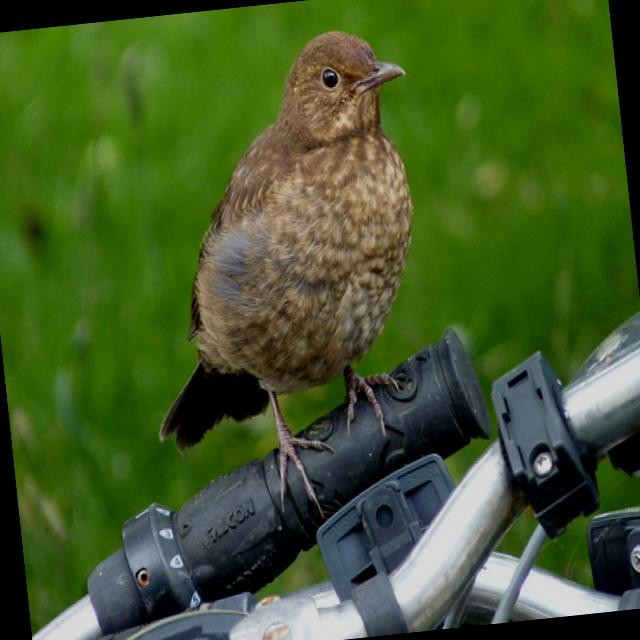Vehicle: (2, 284, 640, 640)
